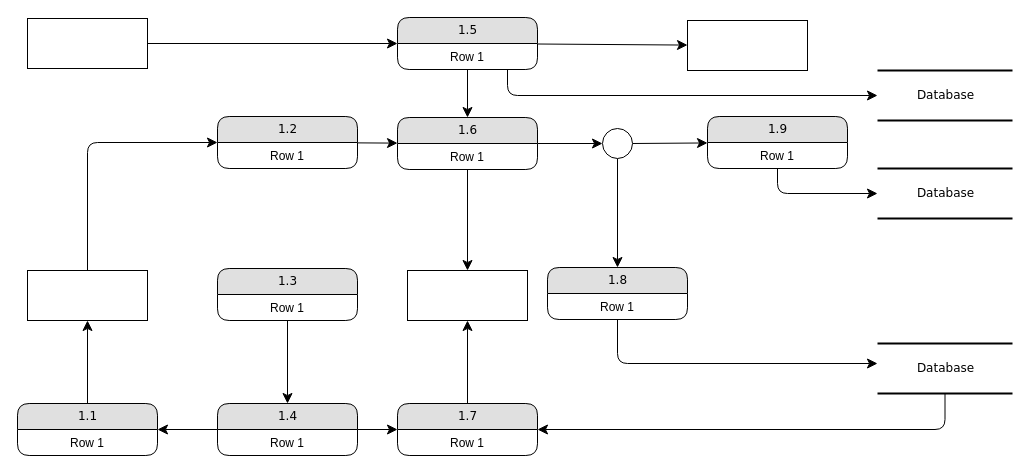
Image size: 1031x476. Some labels were removed from this diagram. The shapes that lost their labels are listed below. From the top down, each one's centre as x and y in pixels, then its label:
the point at 87,43: Input
the point at 747,45: Output
the point at 87,295: Object
the point at 467,295: adfasdf
